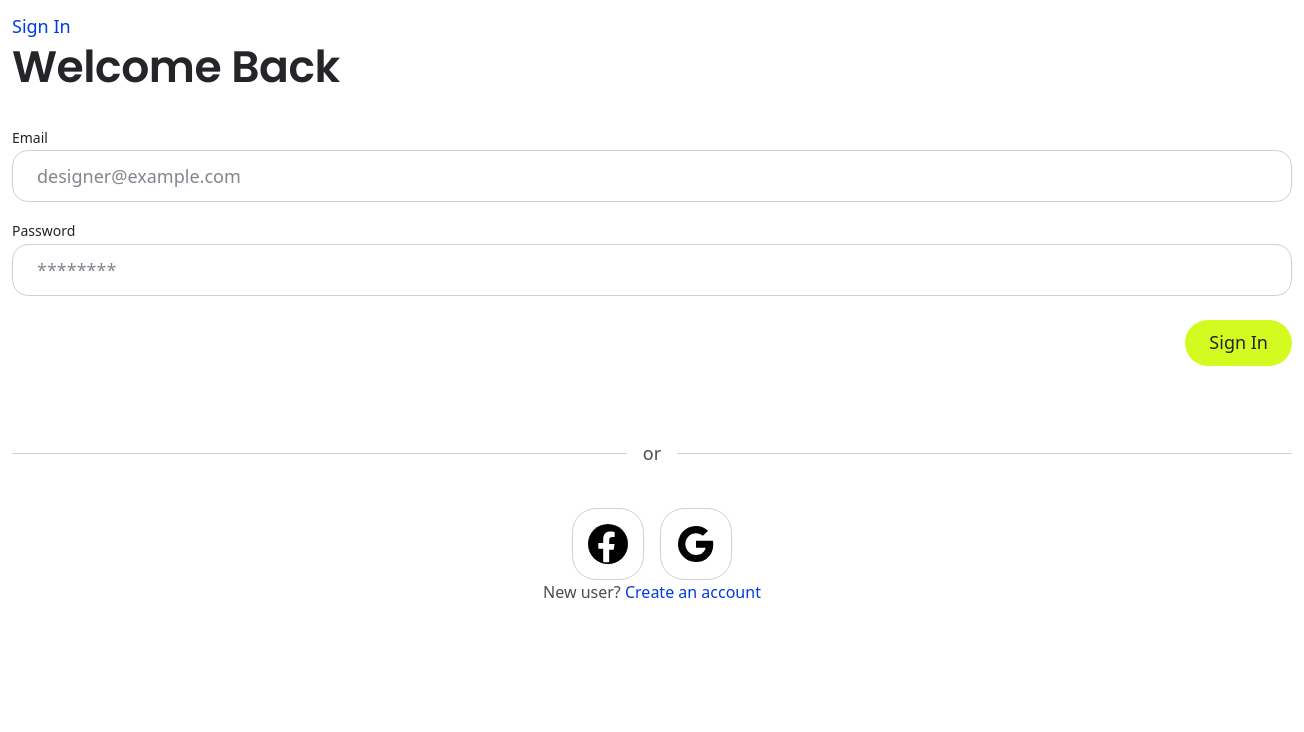
Test: LoginForm › shows a server error for wrong credentials and does not redirect
This screenshot has width=1304, height=732.
Type "wrong@example.com" into the field labelled "Email".
click(652, 176); type("wrong@example.com")  # box [12, 150, 1292, 202]
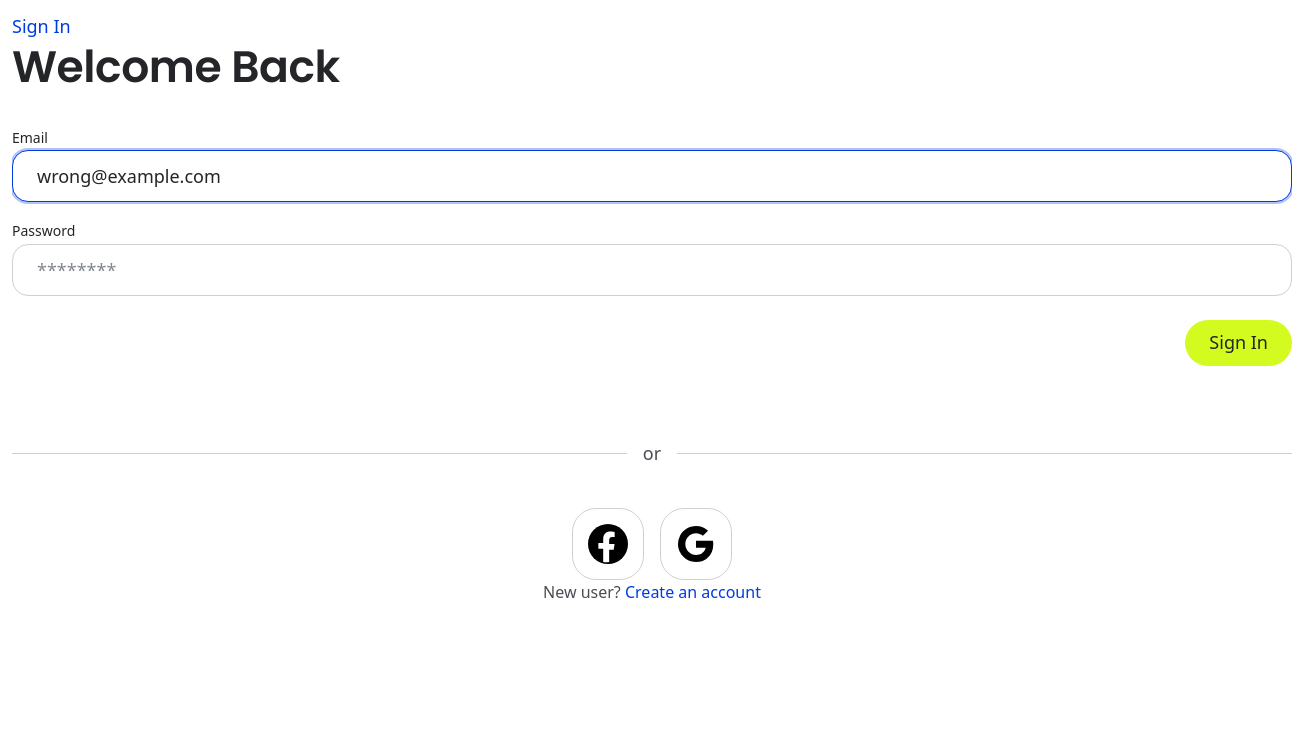
Type "wrongpass" into the password field labelled "Password".
click(652, 270); type("wrongpass")  # box [12, 244, 1292, 296]
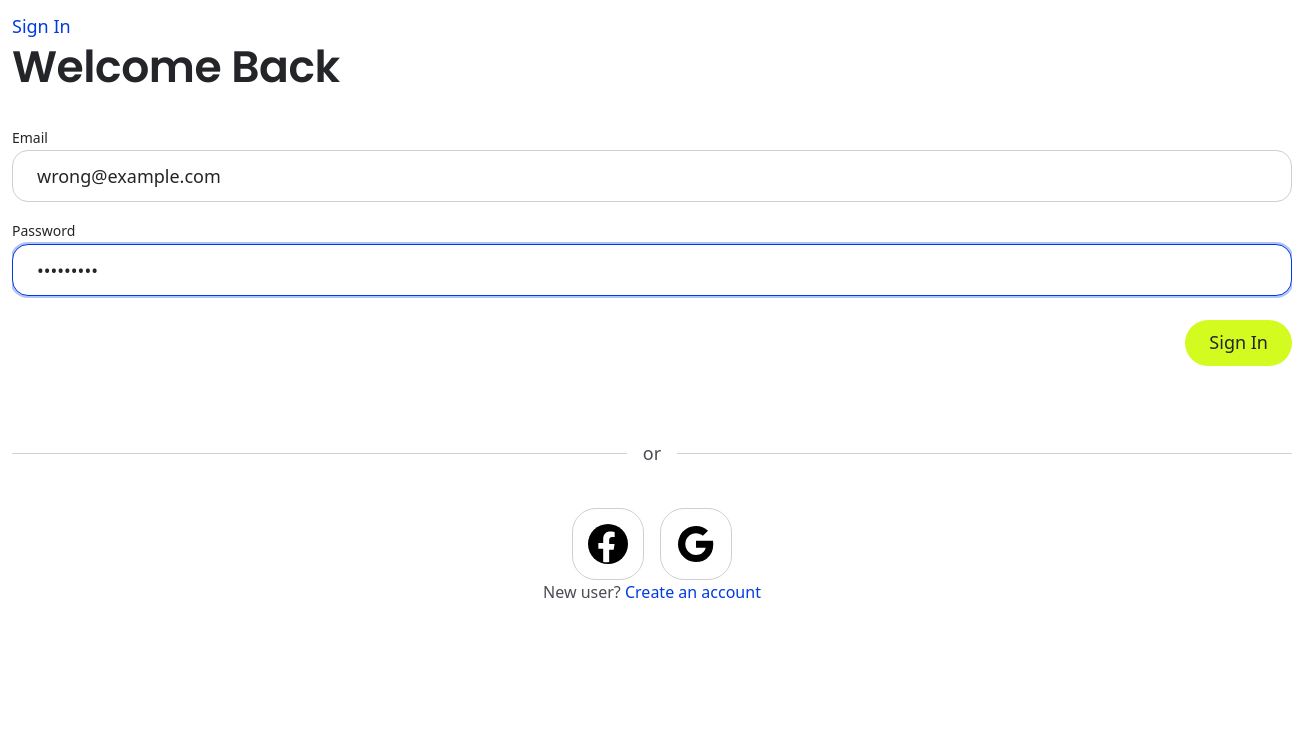
Click the button "Sign In".
click(1239, 343)  # box [1185, 320, 1292, 366]
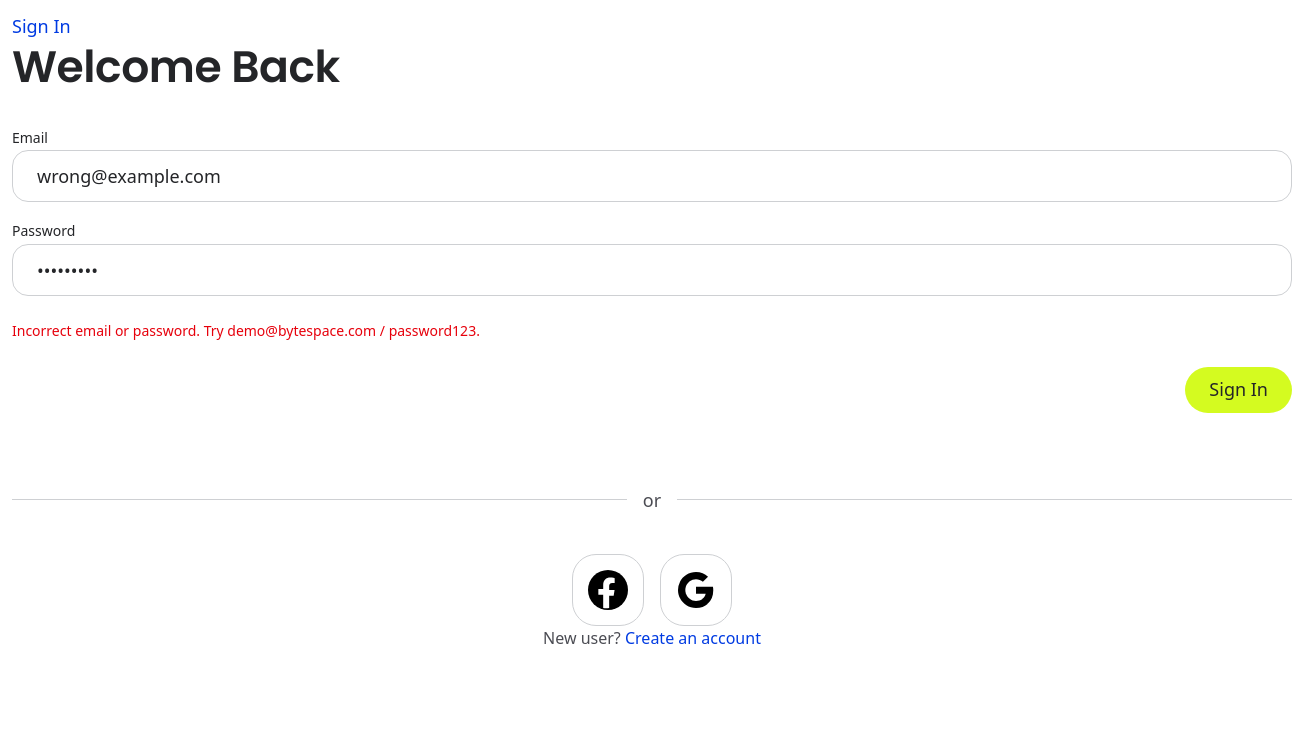
expect the message shows "Incorrect email or password": met, box [12, 321, 480, 340]
